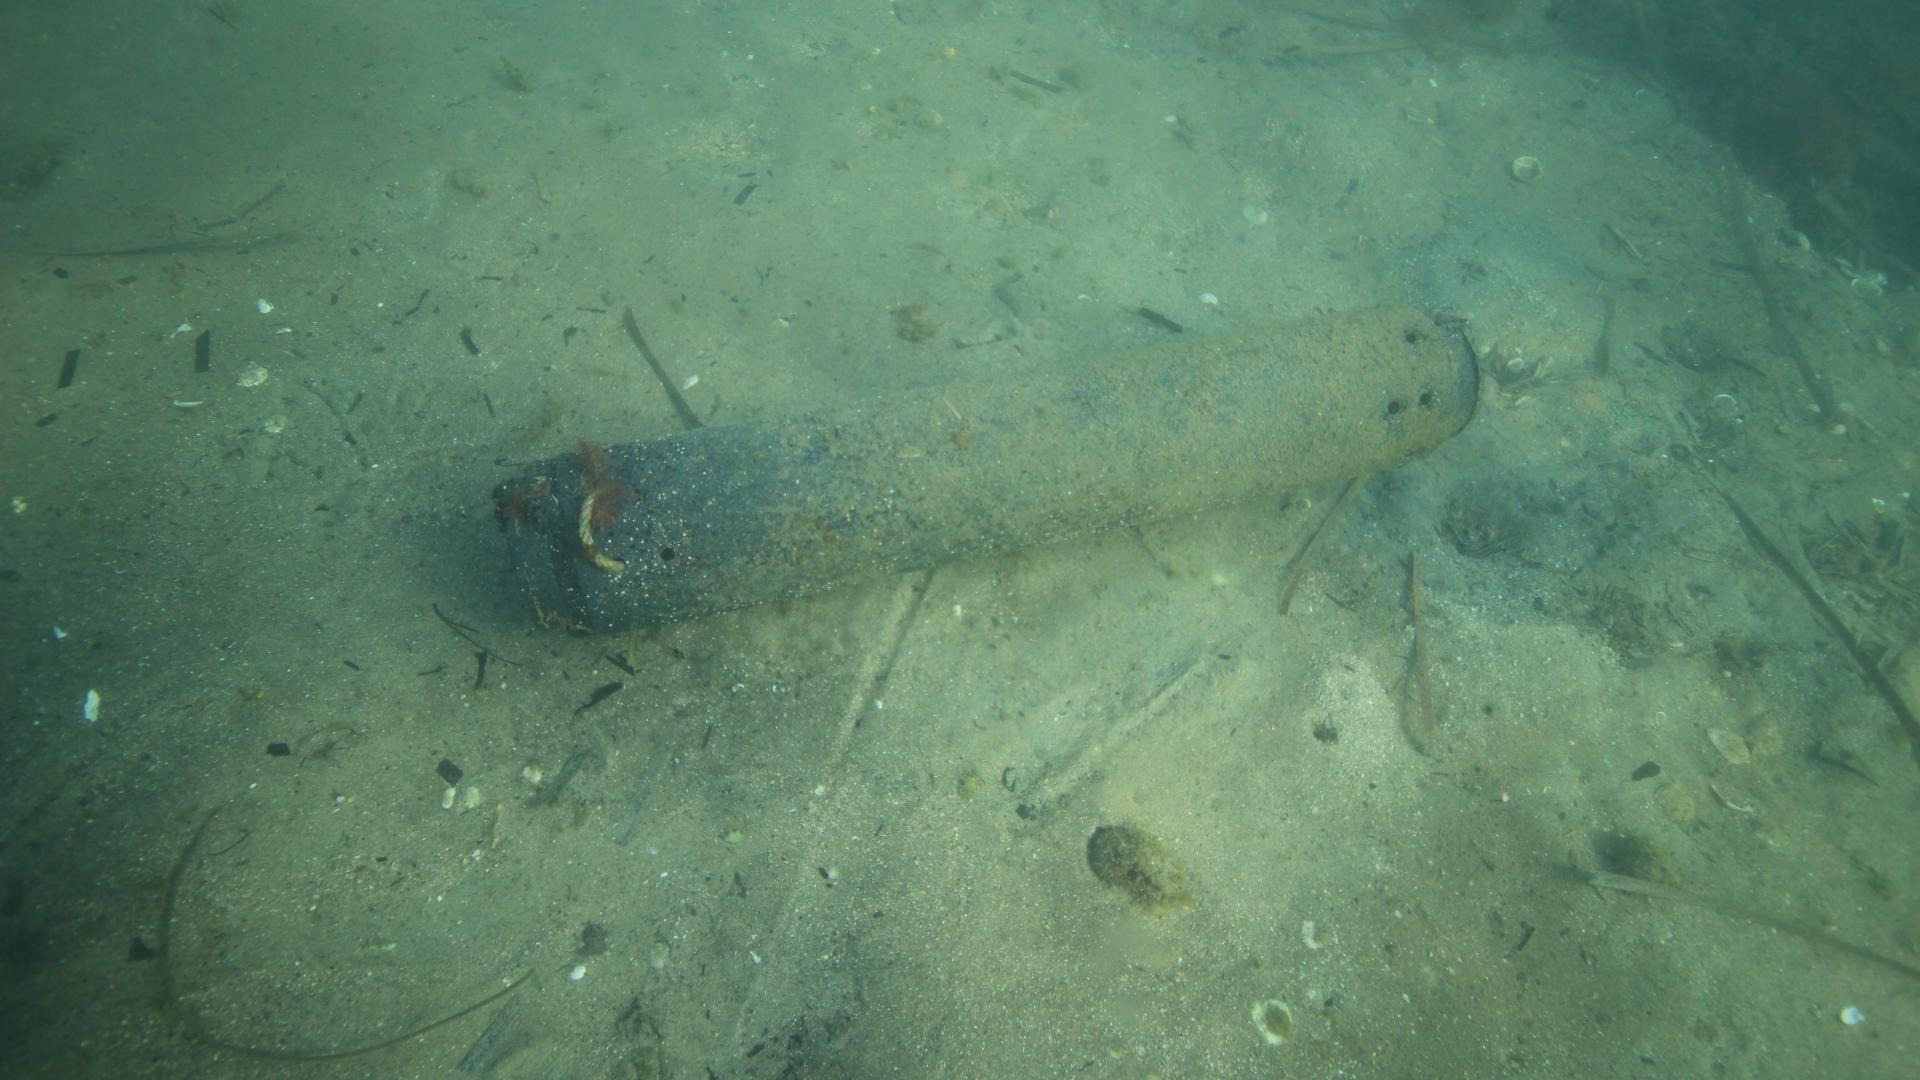eel fish trap: (495, 301, 1484, 642)
rope: (568, 479, 625, 578)
